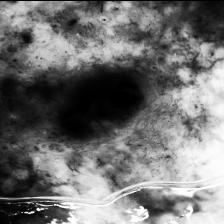Potentially Malignant Skin Tumors: (60, 71, 146, 138)
